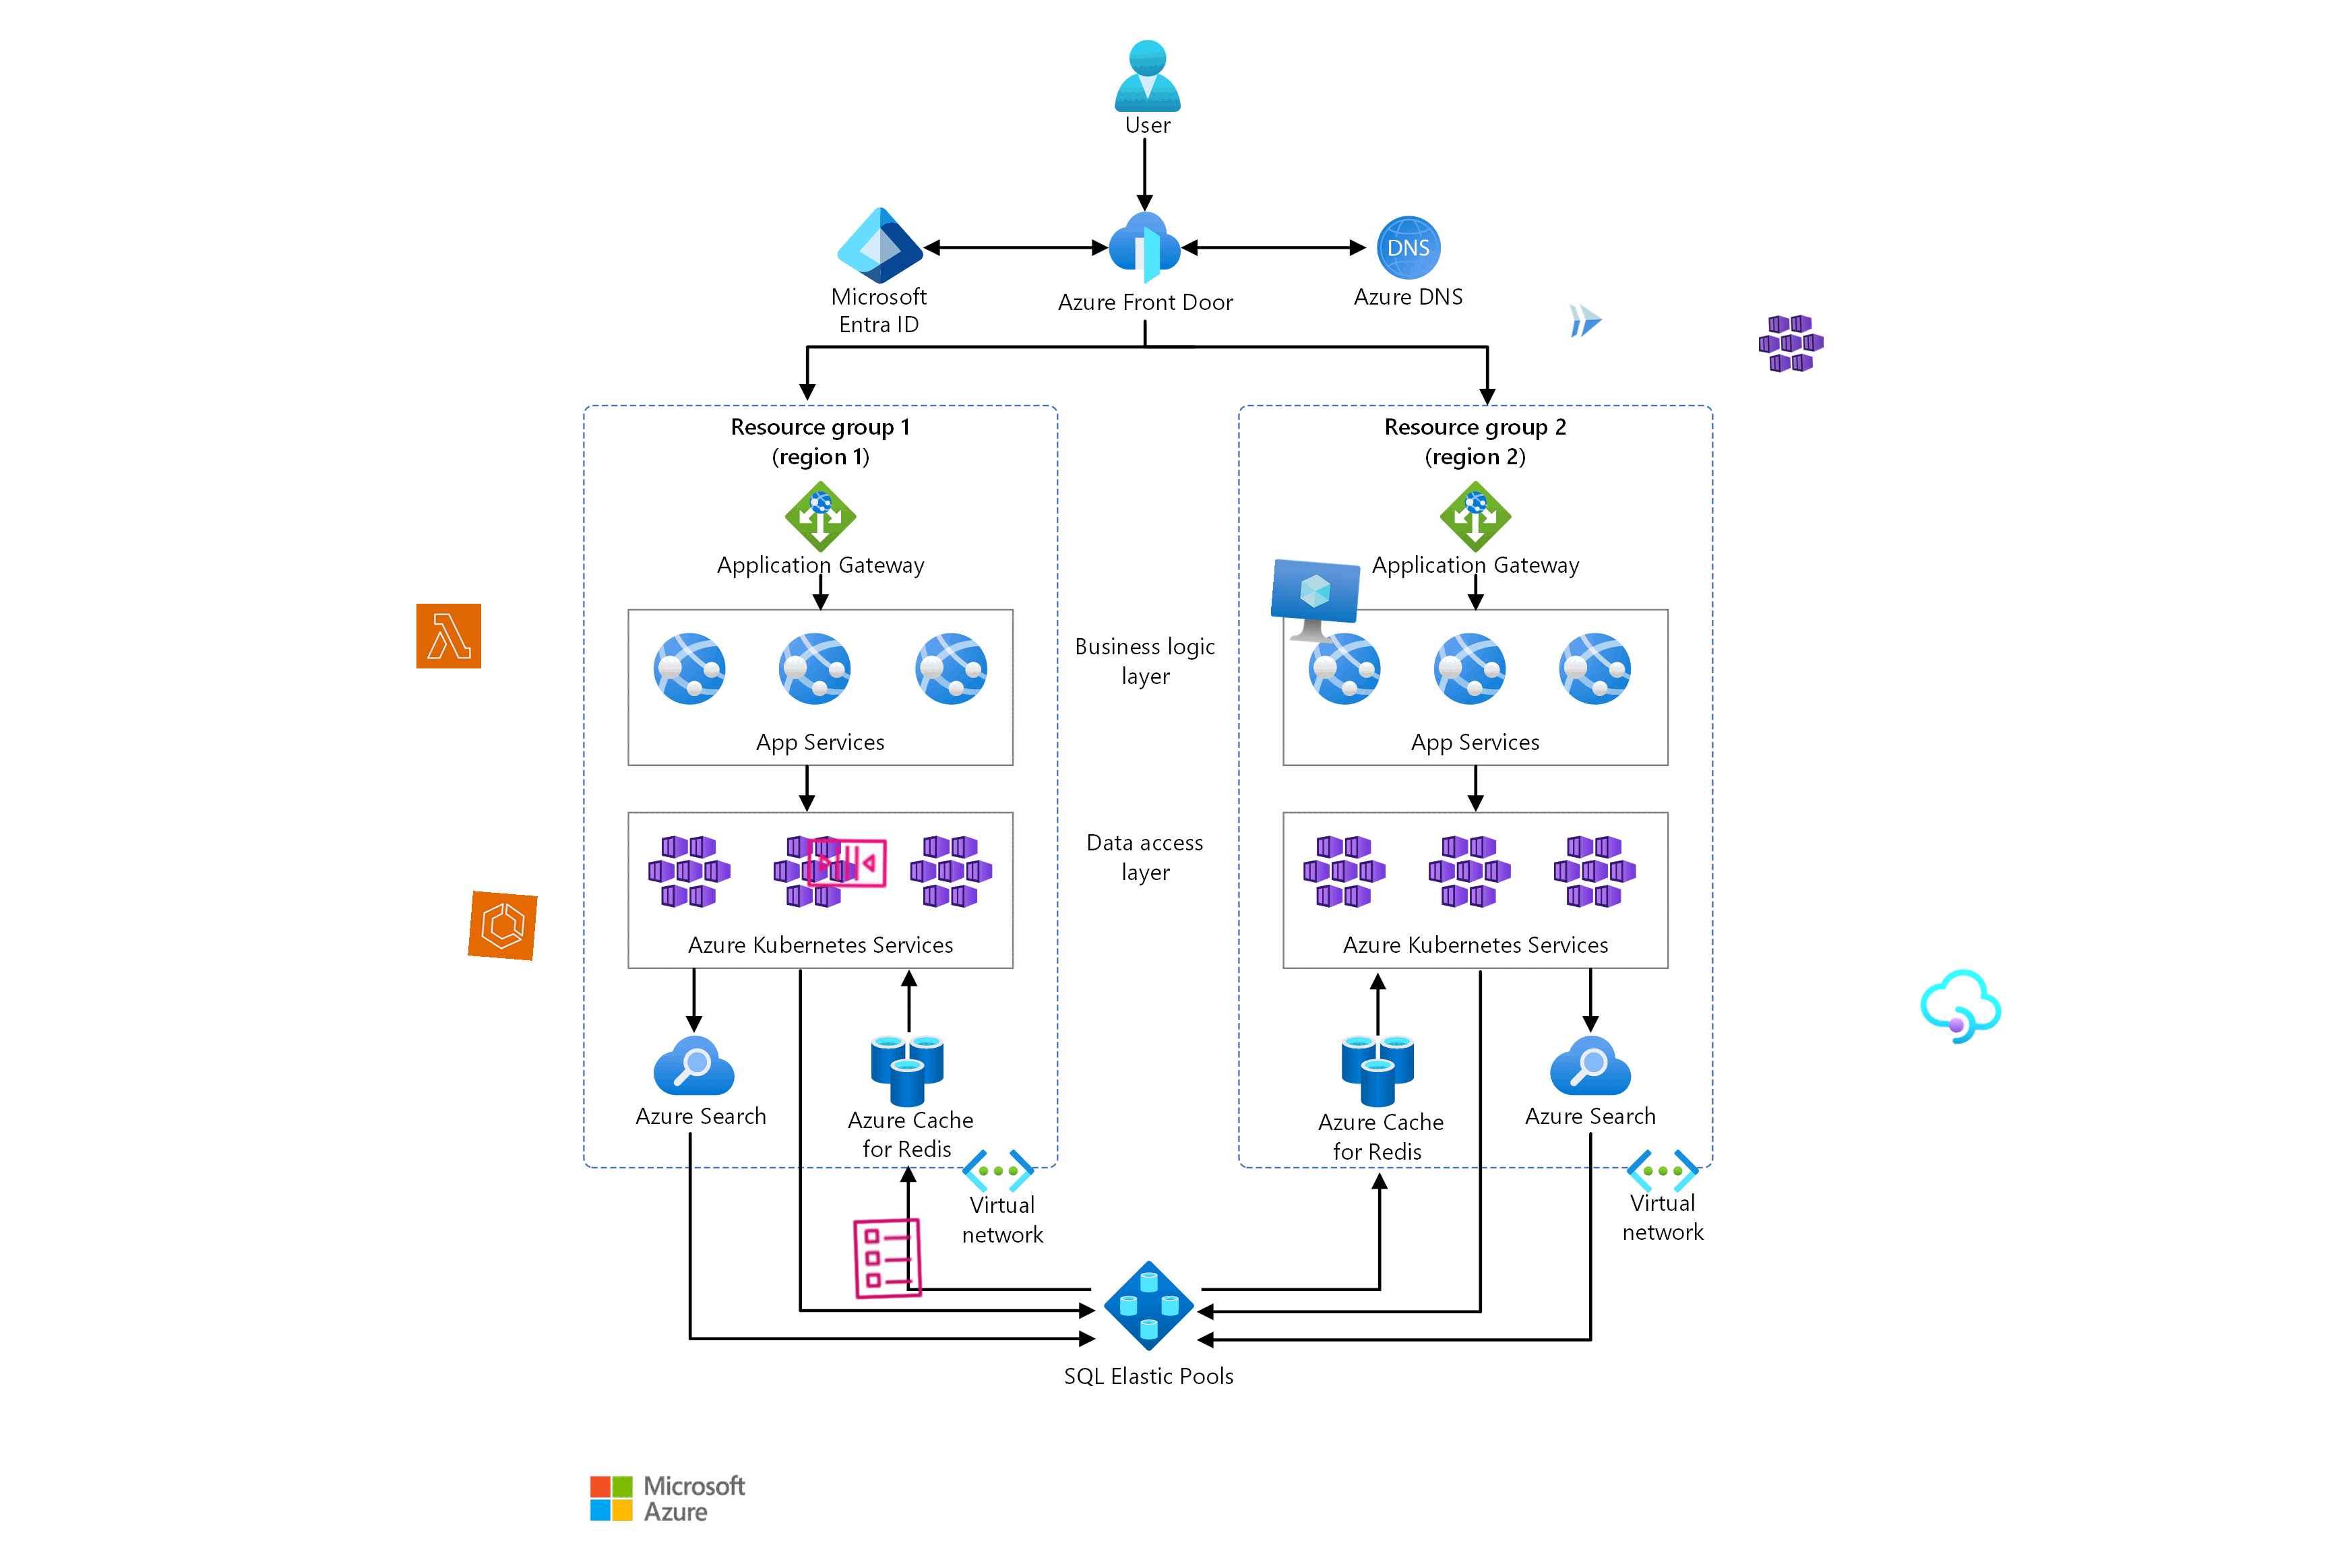aws_amazon_elastic_container_service: (467, 891, 537, 961)
aws_cloudformation_template: (842, 1213, 933, 1304)
aws_lambda: (416, 604, 481, 668)
aws_simple_queue_service_queue: (803, 819, 891, 906)
azure_api_management_services: (1915, 959, 2009, 1053)
azure_kubernetes_services: (1757, 310, 1825, 376)
azure_virtual_machine: (1267, 557, 1361, 651)
gcp_cloud_run: (1563, 297, 1608, 343)
